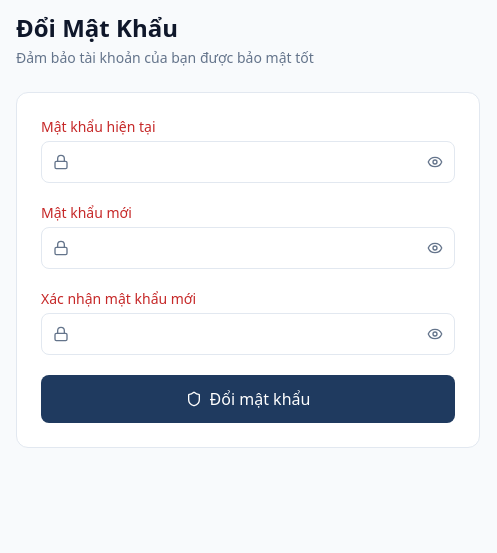
Test case: SettingsPasswordPage › shows weak strength for short password
In the password field with test id "new-password-input": (248, 248) [41,227,455,269], type "abc"
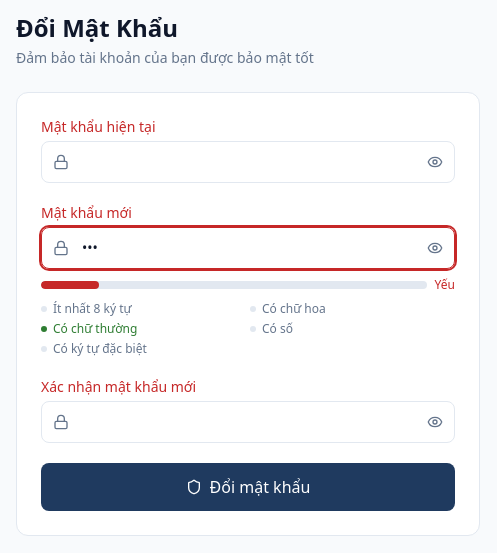
Expected: the text "Yếu" is shown, [435,277,455,293]
